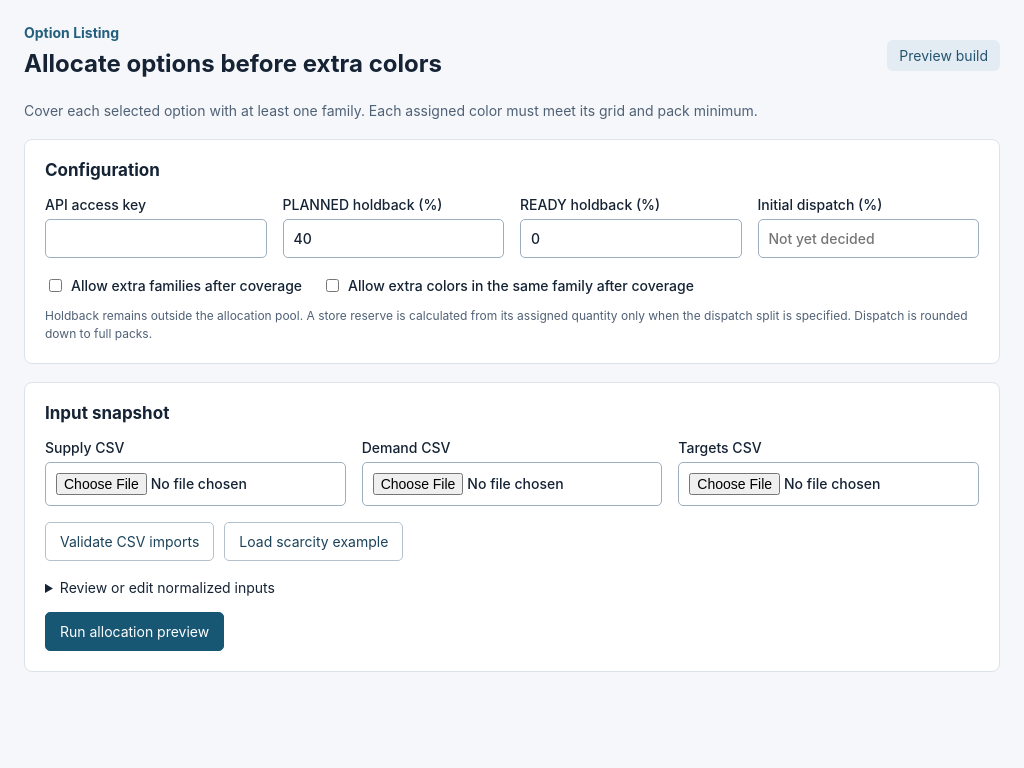
Test case: requires access key before submitting a preview
What coordinates should you click on to do the following:
click the button "Run allocation preview"
I would click on:
 (135, 632)
Its box is [45,612,224,651].
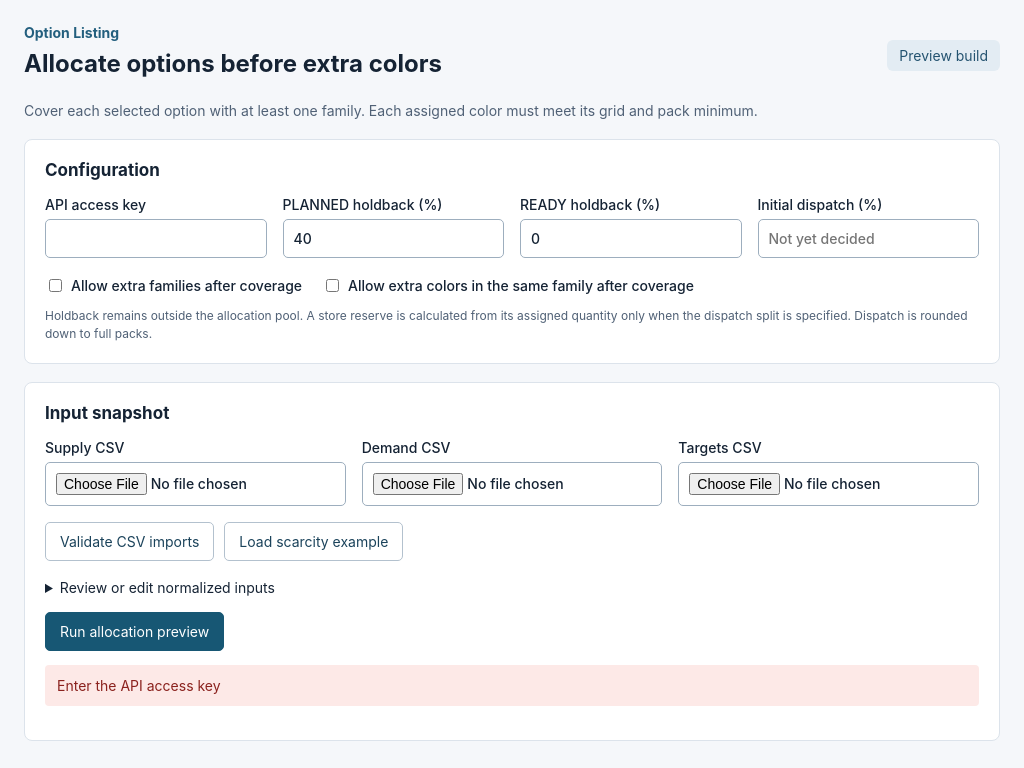
Result: the message reads "Enter the API access key" at [57,677,221,694]
